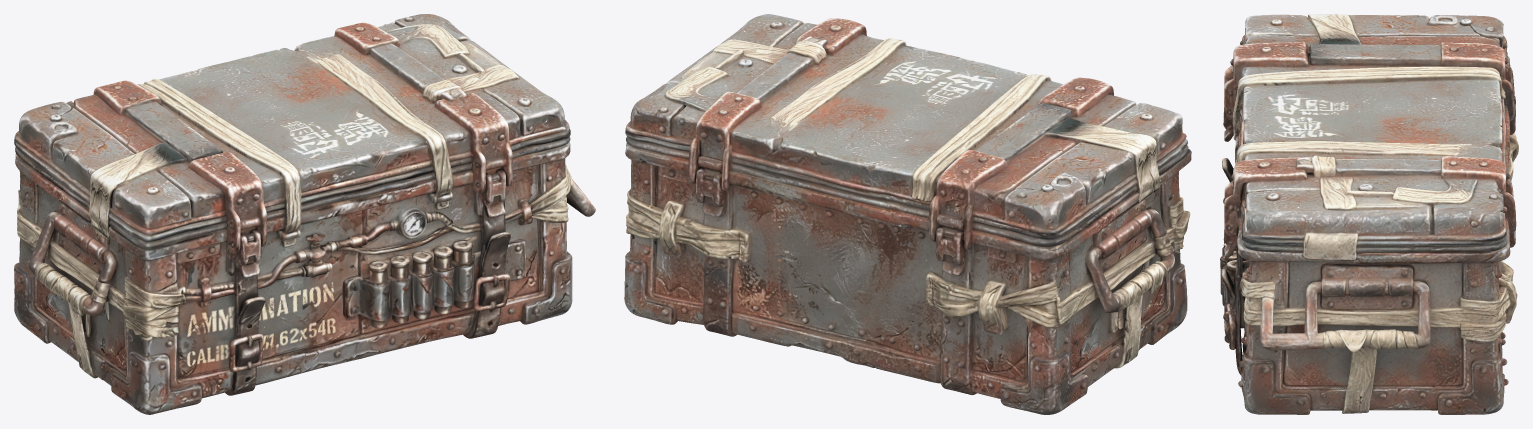
The model's file is base_basic_shaded(7).glb.
3 views of the same model, side by side, from view 1: azimuth 30°, elevation 25°; view 2: azimuth 150°, elevation 25°; view 3: azimuth 270°, elevation 25° (orthographic). The views are drawn at different scales.
Parts seen in each view (by area): view 1: model; view 2: model; view 3: model.
Part boxes in pixels (x1,y1,x2,y2): model: (14,14,595,414); model: (624,14,1191,414); model: (1220,14,1518,414).
Bounding box in the file's own units: 1.9 × 0.827 × 1.04.
Materials: 1 (1 with a texture image).
